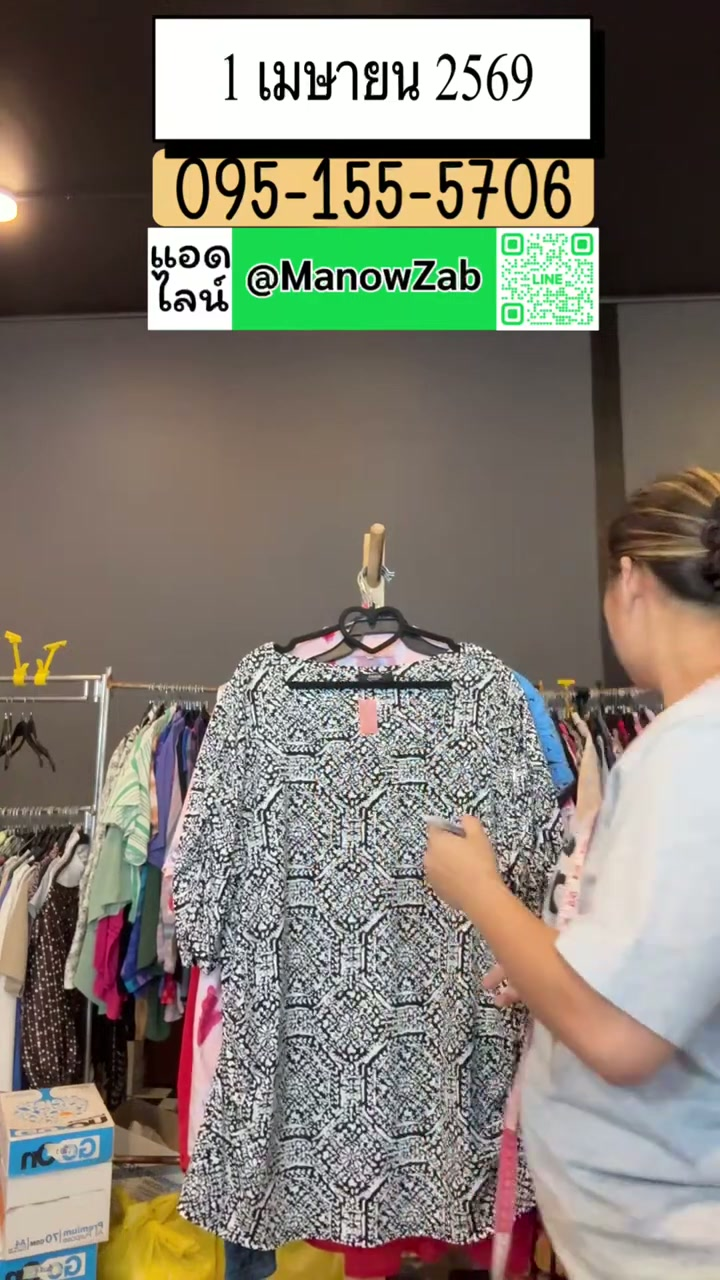display_shirt: (171, 614, 564, 1254)
